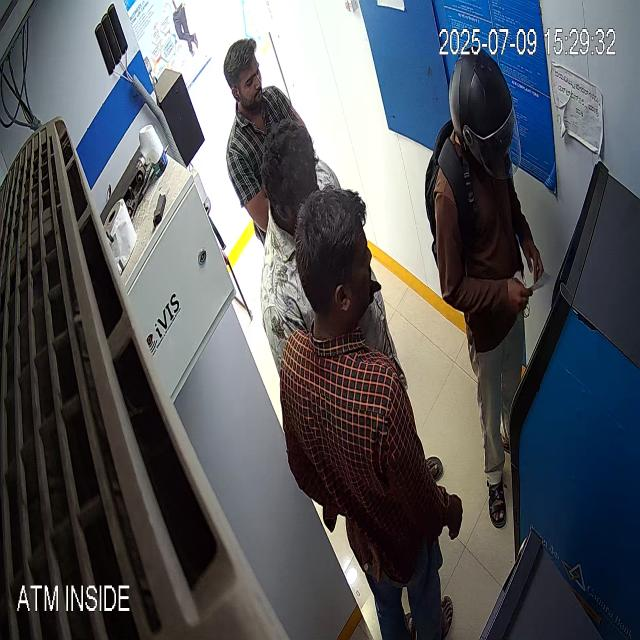helmet: (449, 46, 522, 180)
no_helmet: (293, 185, 374, 341), (261, 119, 317, 234), (223, 38, 263, 116)
